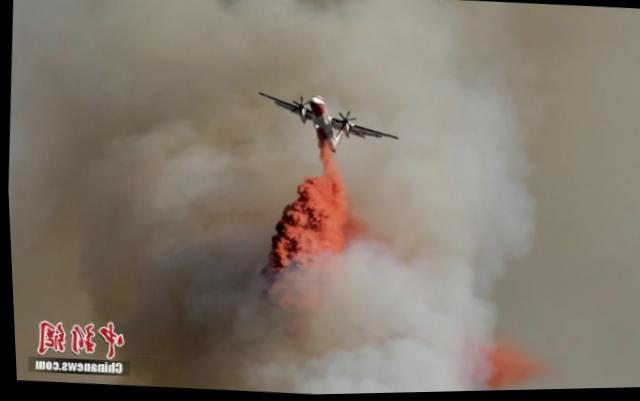smoke: (1, 0, 224, 224), (393, 74, 550, 306), (276, 256, 505, 395), (144, 227, 285, 374), (221, 0, 451, 80), (22, 226, 144, 317), (209, 121, 285, 216), (278, 171, 361, 253)
